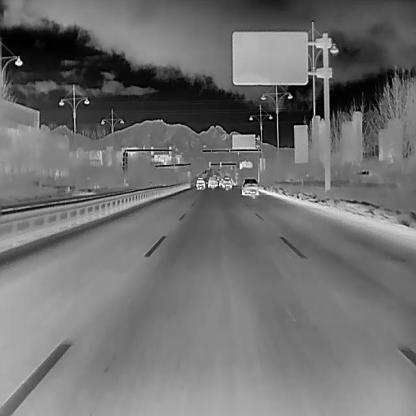car: (241, 177, 258, 195), (195, 176, 206, 191), (223, 176, 232, 190), (208, 176, 218, 188)
